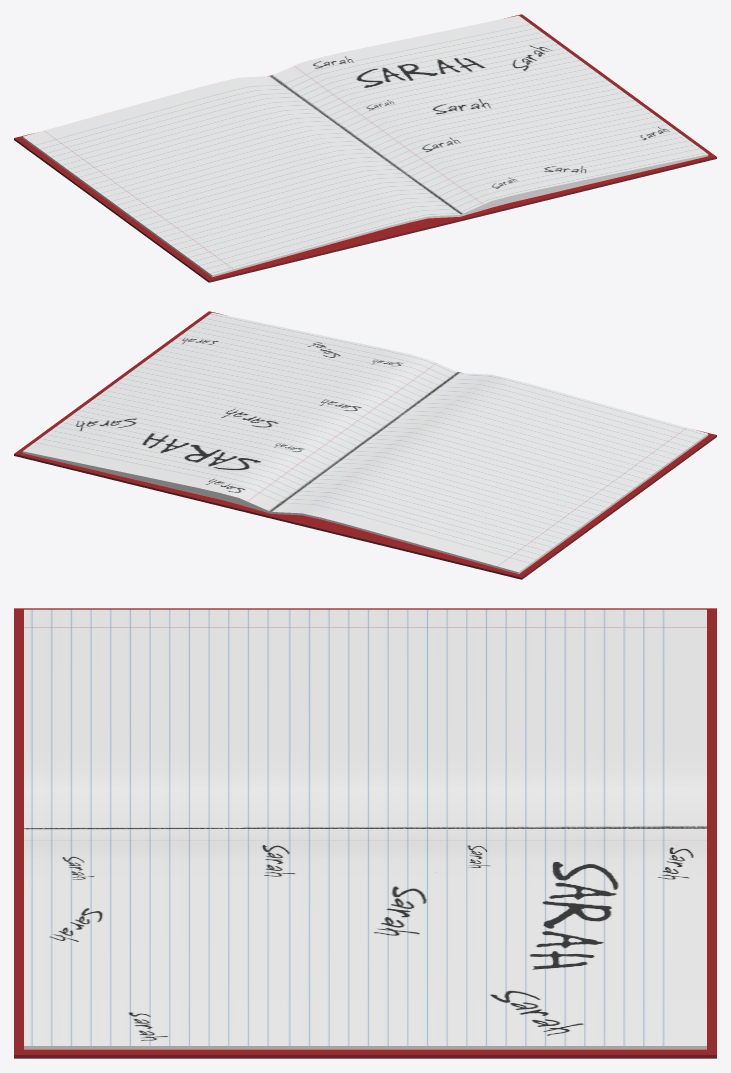
File: Notebook_Less.FBX
3 views of the same model, one above another, from view 1: azimuth 30°, elevation 25°; view 2: azimuth 150°, elevation 25°; view 3: azimuth 270°, elevation 25° (orthographic). The views are drawn at different scales.
Parts seen in each view (by area): view 1: Box002; view 2: Box002; view 3: Box002.
Part boxes in pixels (x1,y1,x2,y2): Box002: (14,14,716,282); Box002: (14,311,716,579); Box002: (14,608,716,1058).
Size of the model in its own units: 17.58 by 0.3486 by 11.69.
Materials: 1 (1 with a texture image).
